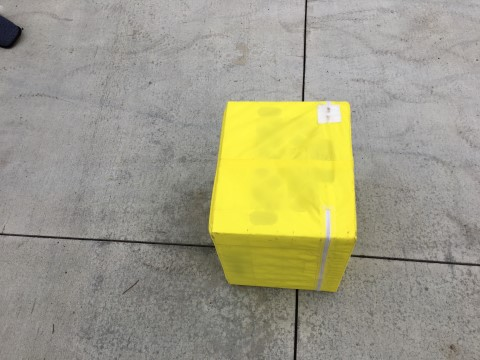cube: (209, 100, 359, 294)
